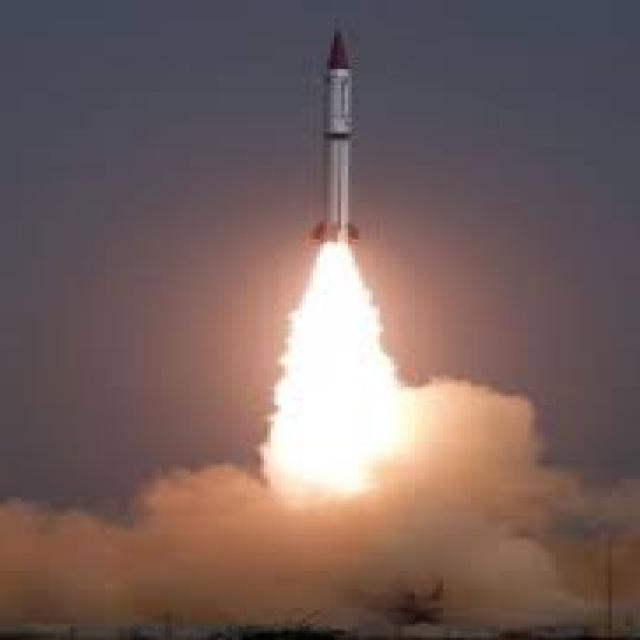Missile: (310, 27, 363, 248)
